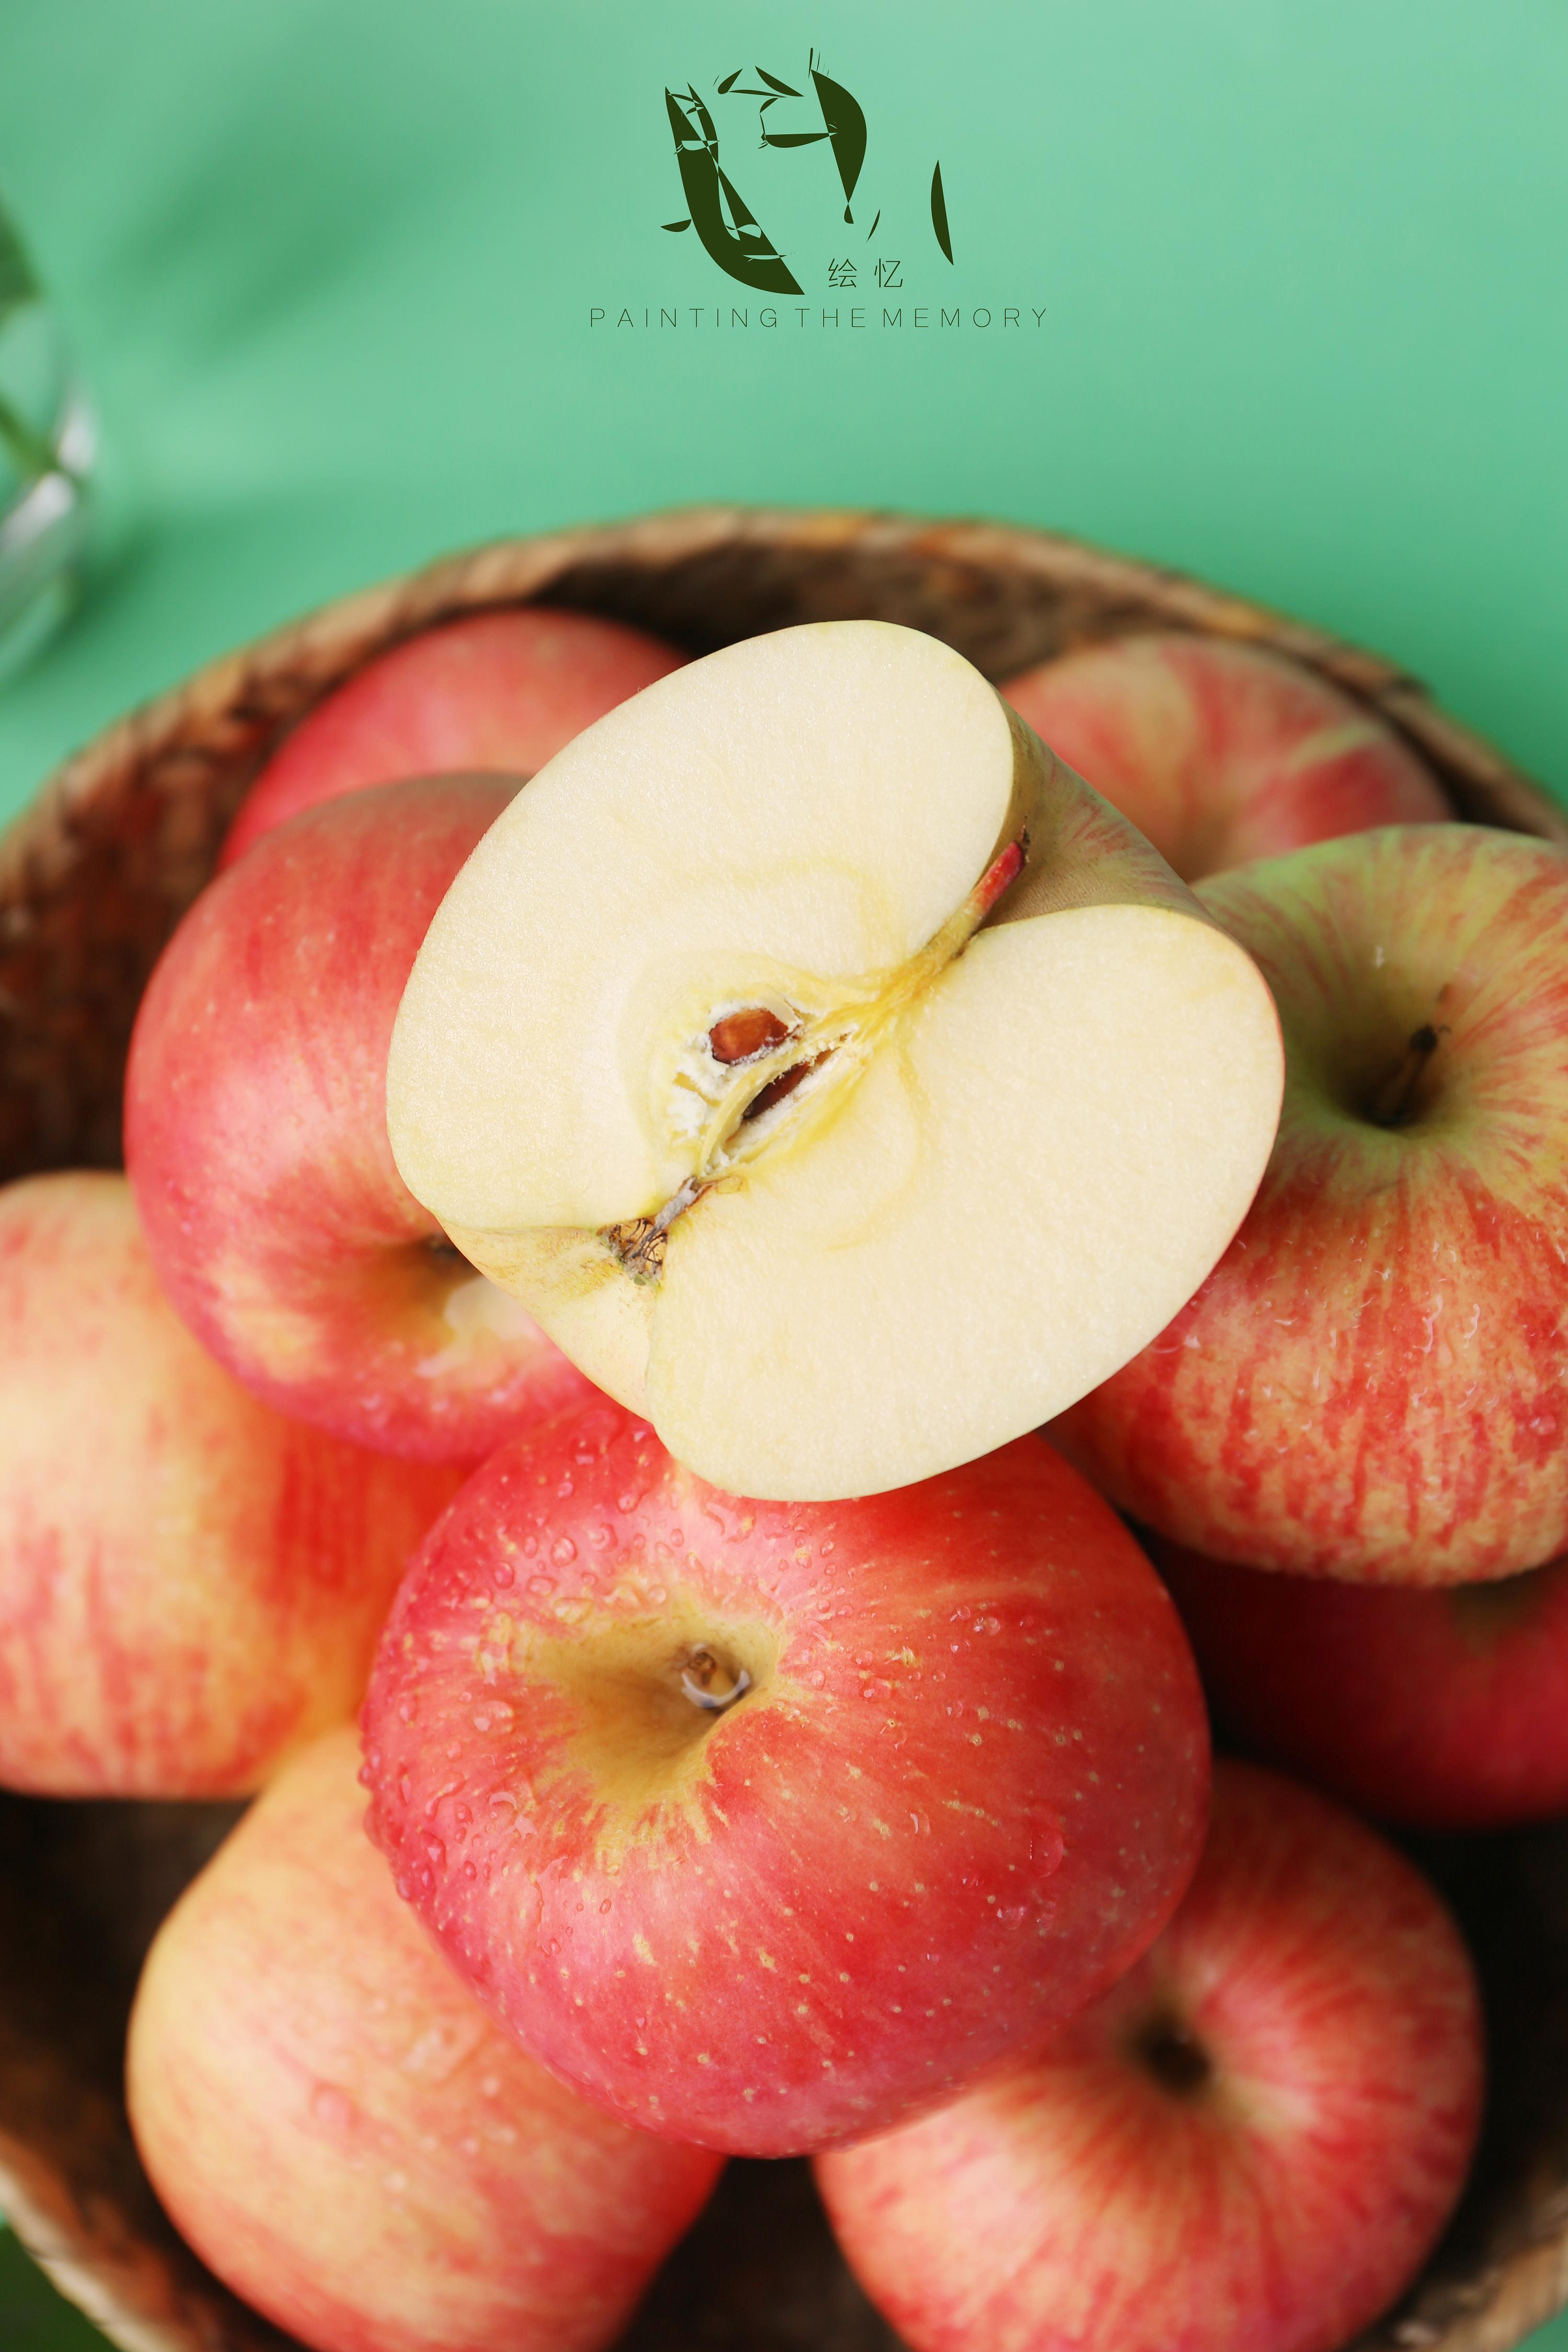apple: (341, 1374, 1218, 2152), (796, 1715, 1493, 2333), (1071, 805, 1556, 1573), (122, 1699, 693, 2326), (122, 759, 604, 1461)
